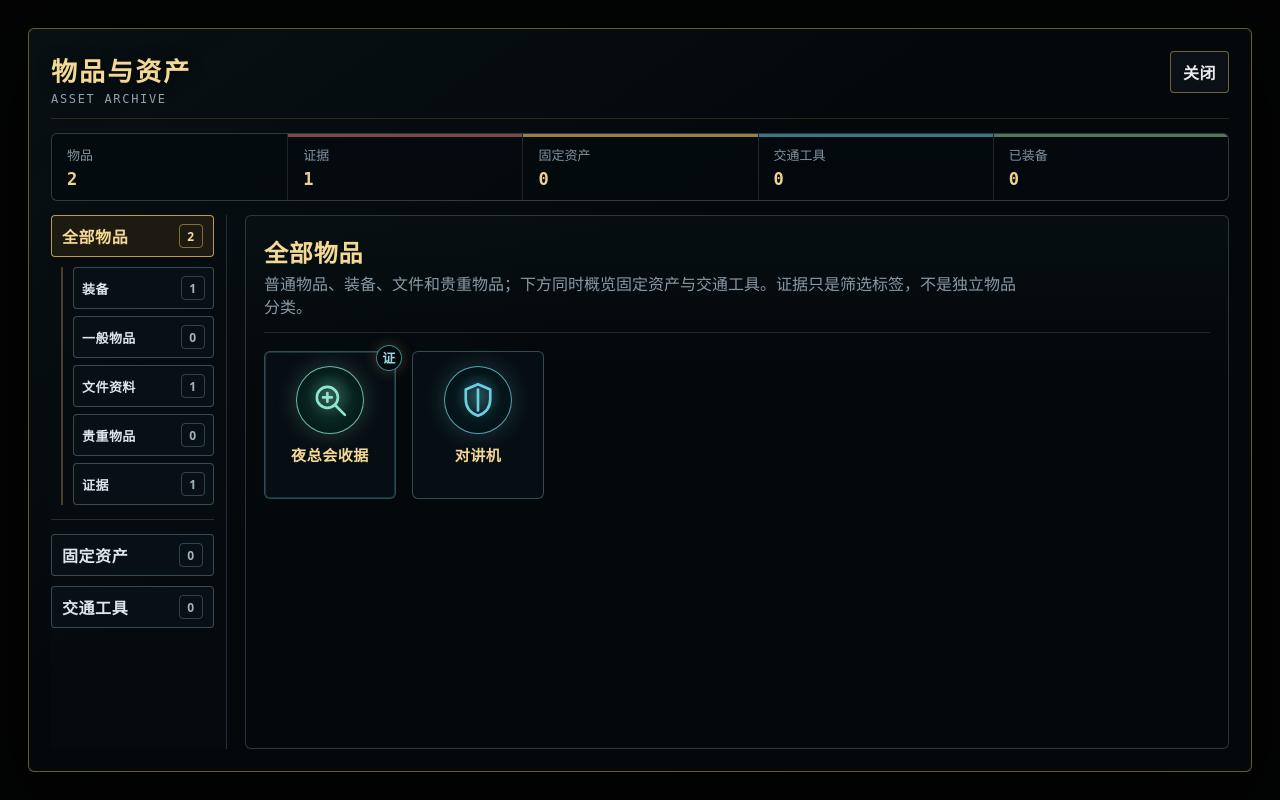
Test: AssetArchiveModal › filters evidence items and shows default evidence details
The image size is (1280, 800).
Click the button named "证据1".
click(144, 484)  # box x1=73 y1=463 x2=214 y2=505
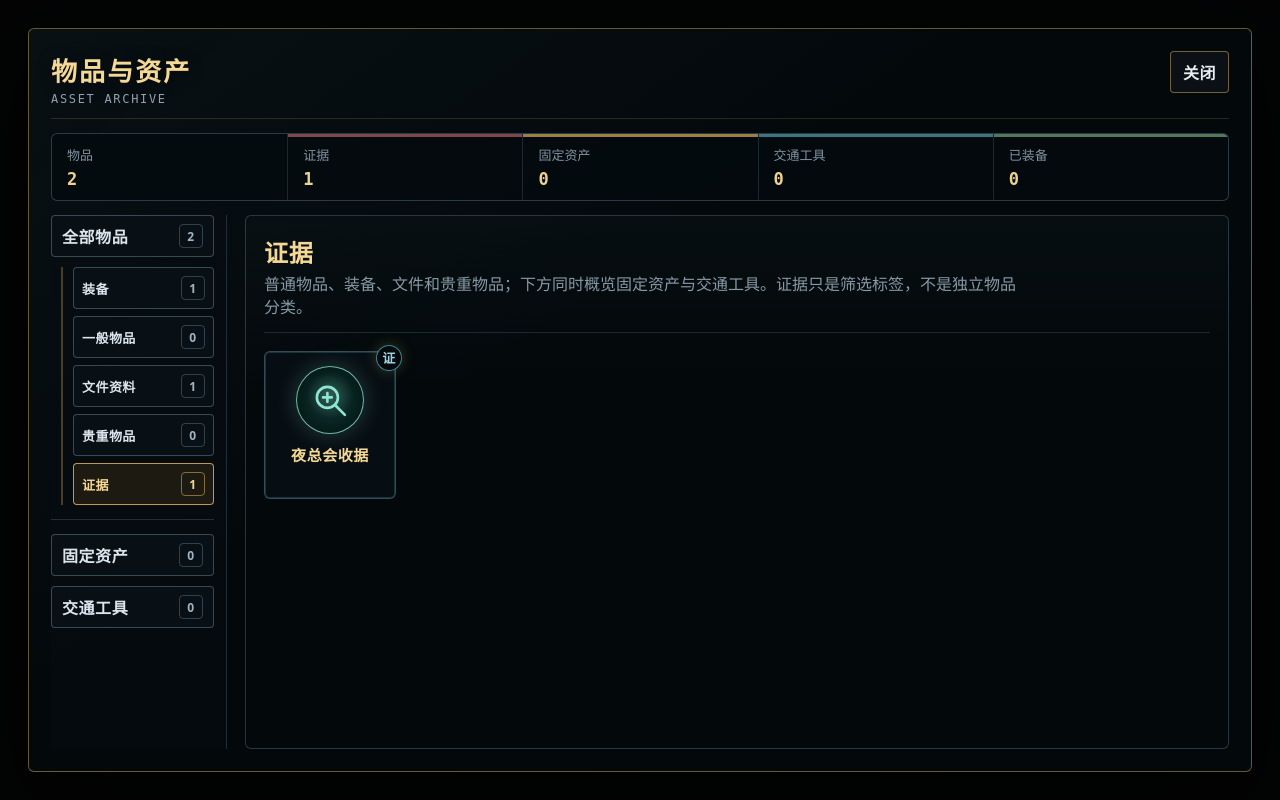
Click the button "夜总会收据 证".
click(330, 425)  # box x1=264 y1=351 x2=396 y2=499
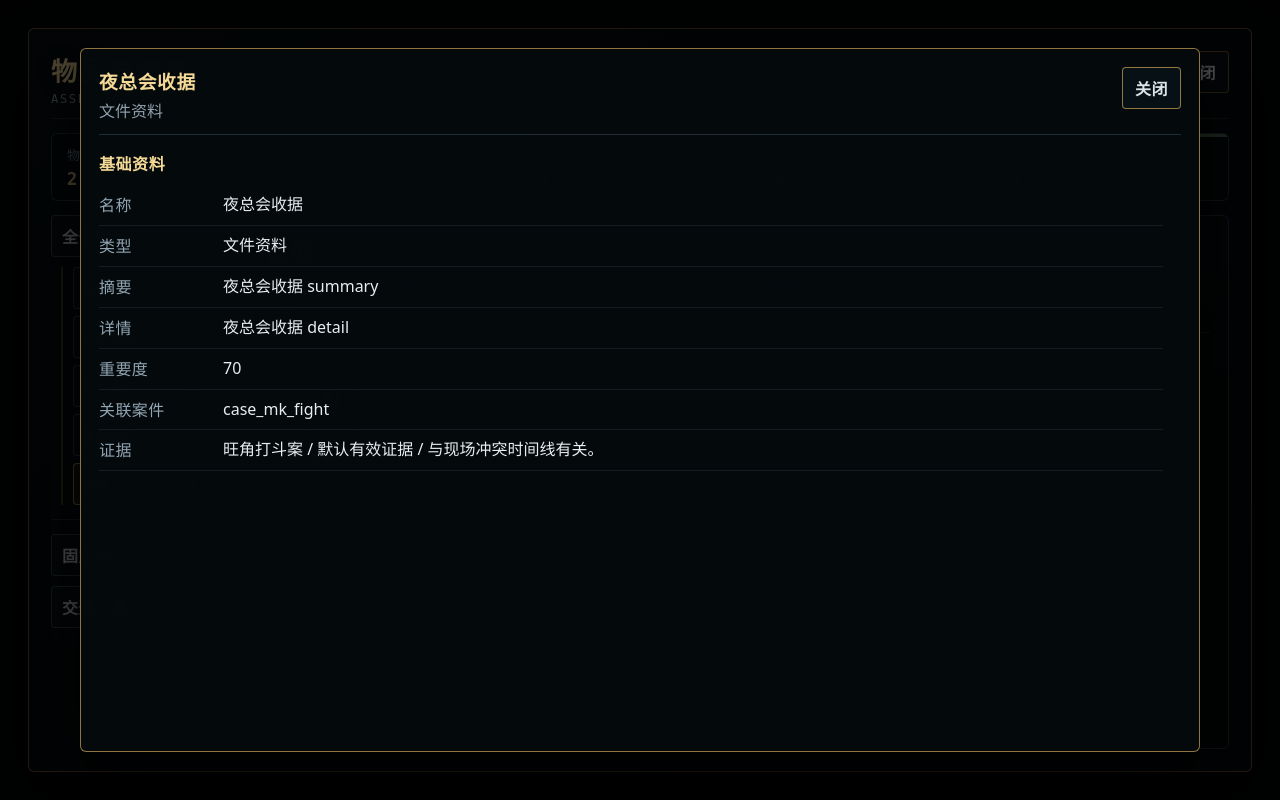
Expected: the text "旺角打斗案 / 默认有效证据 / 与现场冲突时间线有关。" is shown, x1=223 y1=438 x2=604 y2=460
Expected: the text "夜总会收据 detail" is shown, x1=223 y1=316 x2=349 y2=338
